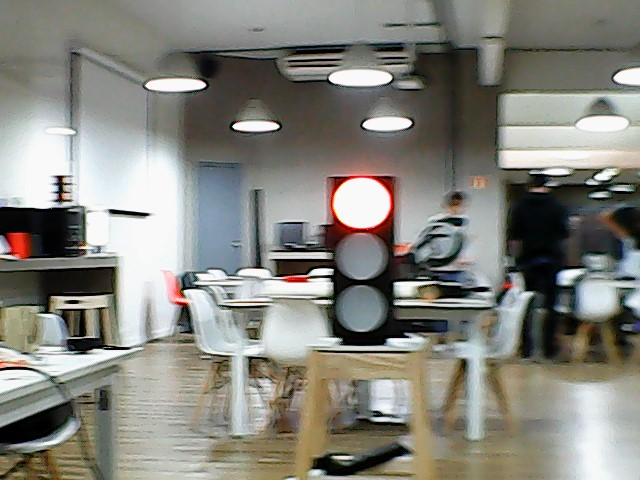vermelho: (323, 174, 399, 352)
